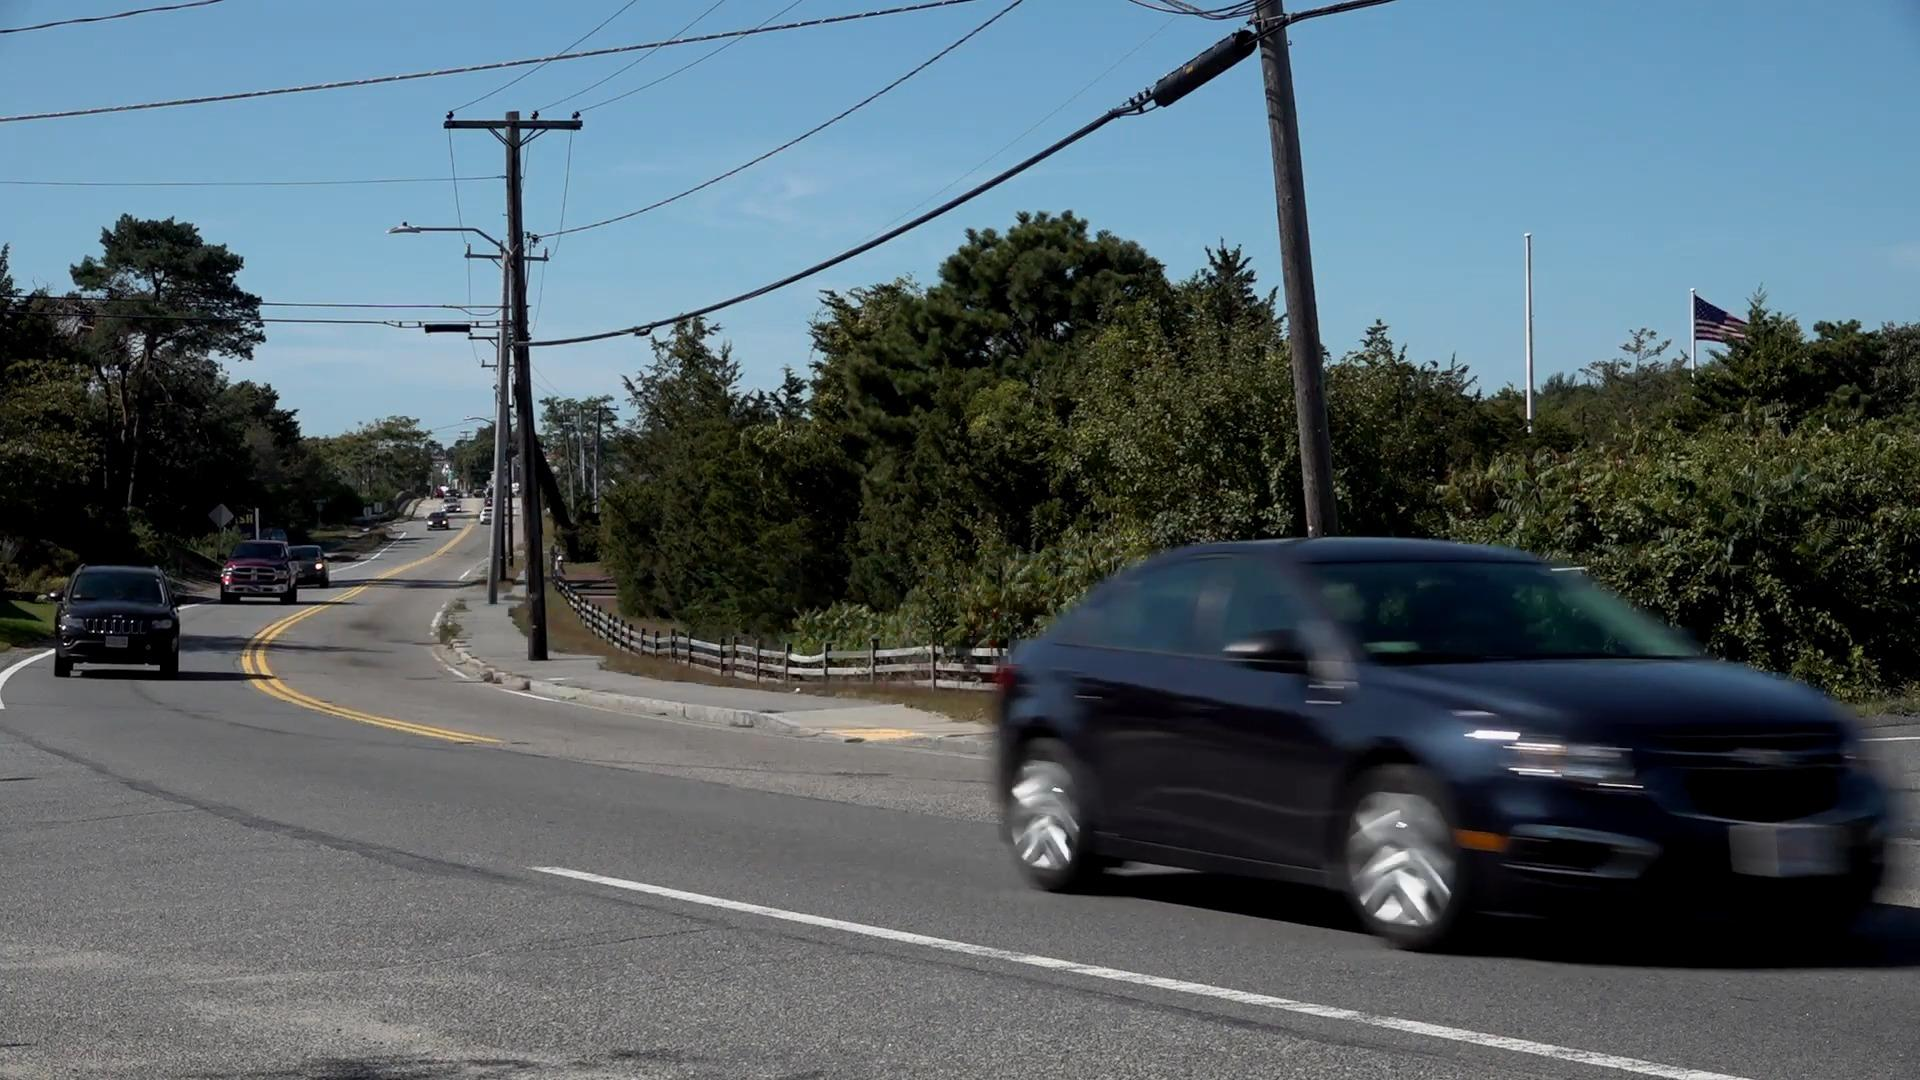sedans: (991, 529, 1901, 967)
suv: (53, 560, 186, 684)
